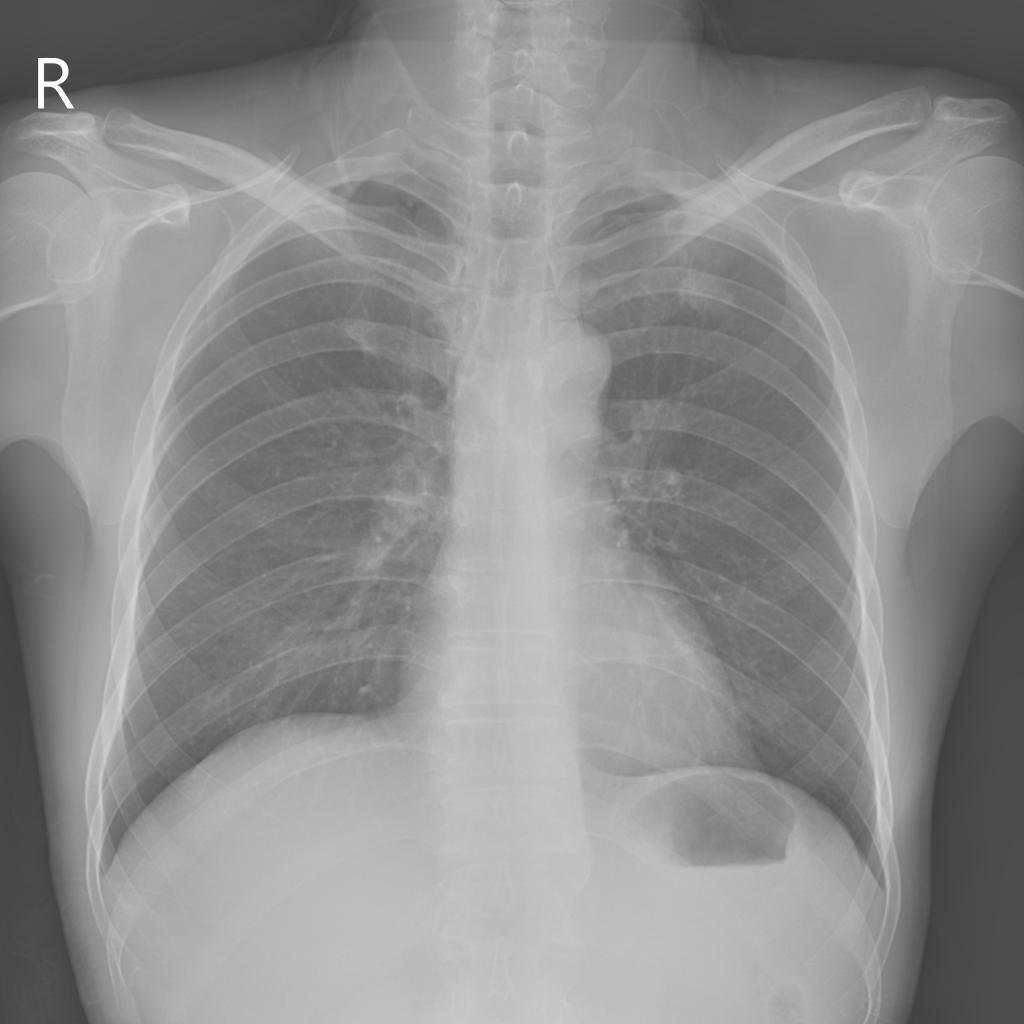Nodule: (678, 269, 737, 319)
